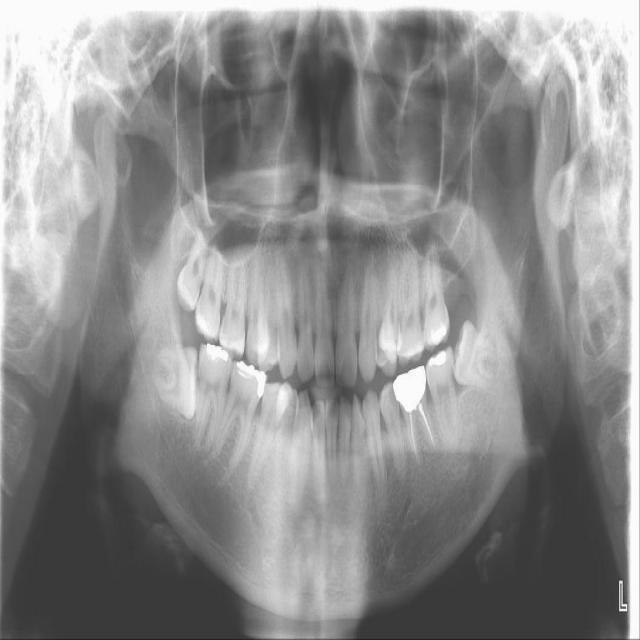Crown: (393, 365, 426, 413)
Filling: (233, 362, 267, 401), (203, 344, 230, 367), (424, 324, 448, 348), (428, 351, 448, 372)
Root Canal Treatment: (418, 404, 434, 450), (409, 412, 416, 464)
impacted tooth: (451, 320, 509, 393), (153, 349, 196, 418), (176, 227, 207, 310)
